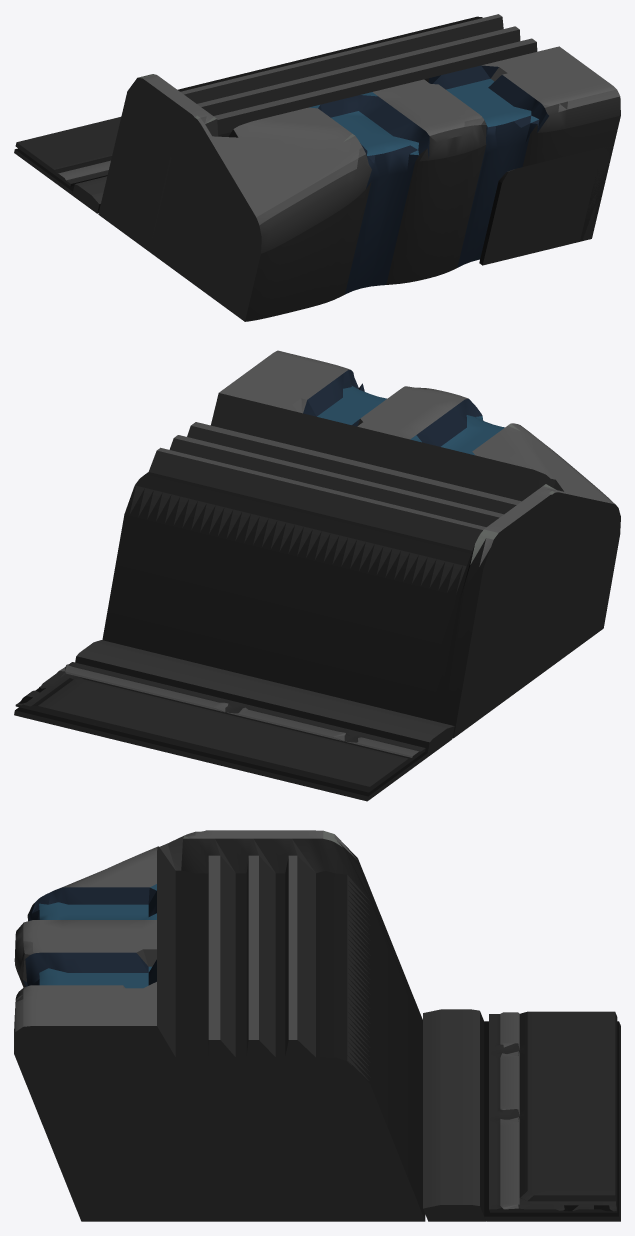
File: fleet_walker_79.glb
The picture shows the model from 3 angles, top to bottom: view 1: azimuth 30°, elevation 25°; view 2: azimuth 150°, elevation 25°; view 3: azimuth 270°, elevation 25°; orthographic projection. The views are drawn at different scales.
Visible parts, largest first — view 1: fleet_walker_79; view 2: fleet_walker_79; view 3: fleet_walker_79.
Part boxes in pixels (x1=…): fleet_walker_79: x1=14, y1=14, x2=620, y2=321; fleet_walker_79: x1=14, y1=350, x2=620, y2=801; fleet_walker_79: x1=14, y1=830, x2=620, y2=1221.
Size of the model in its own units: 24 by 11.2 by 31.49.
